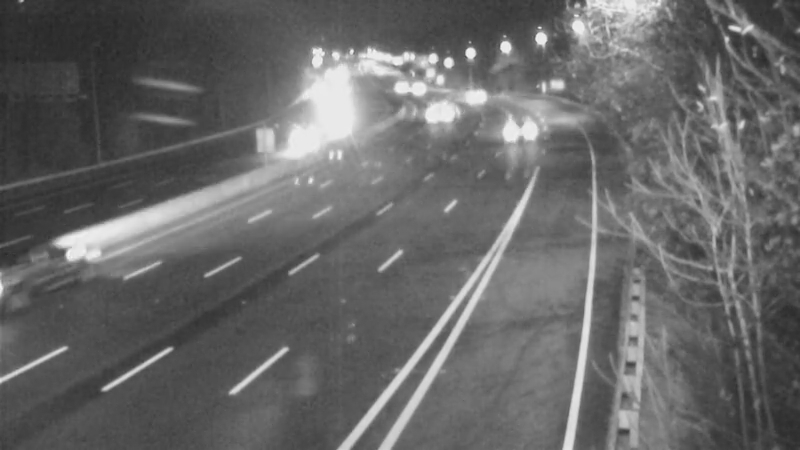vehicle: (1, 234, 81, 314), (369, 59, 419, 109), (393, 64, 443, 114), (450, 71, 500, 121), (415, 84, 465, 134), (501, 102, 551, 152), (280, 111, 330, 161)
